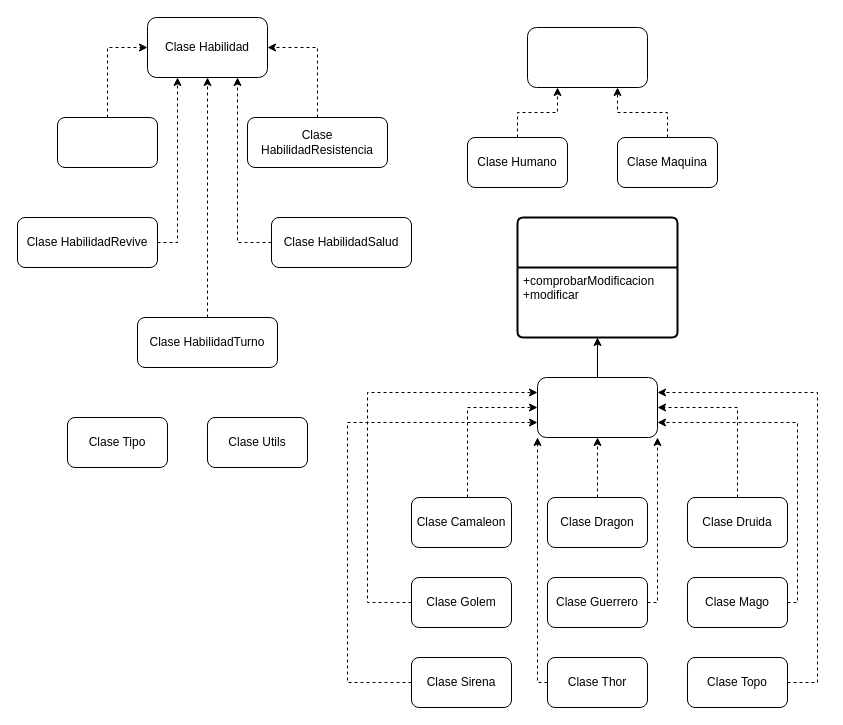
Some shapes in this 843 by 725 pixel diagram are drawn without their labels. Here are the shapes that lost their labels. From the top down, the box of each, then its label:
(526, 26, 648, 88): Clase Jugador
(56, 116, 158, 168): Clase HabilidadDanyo
(516, 216, 678, 338): Interfaz Modificable
(536, 376, 658, 438): Clase Personaje
